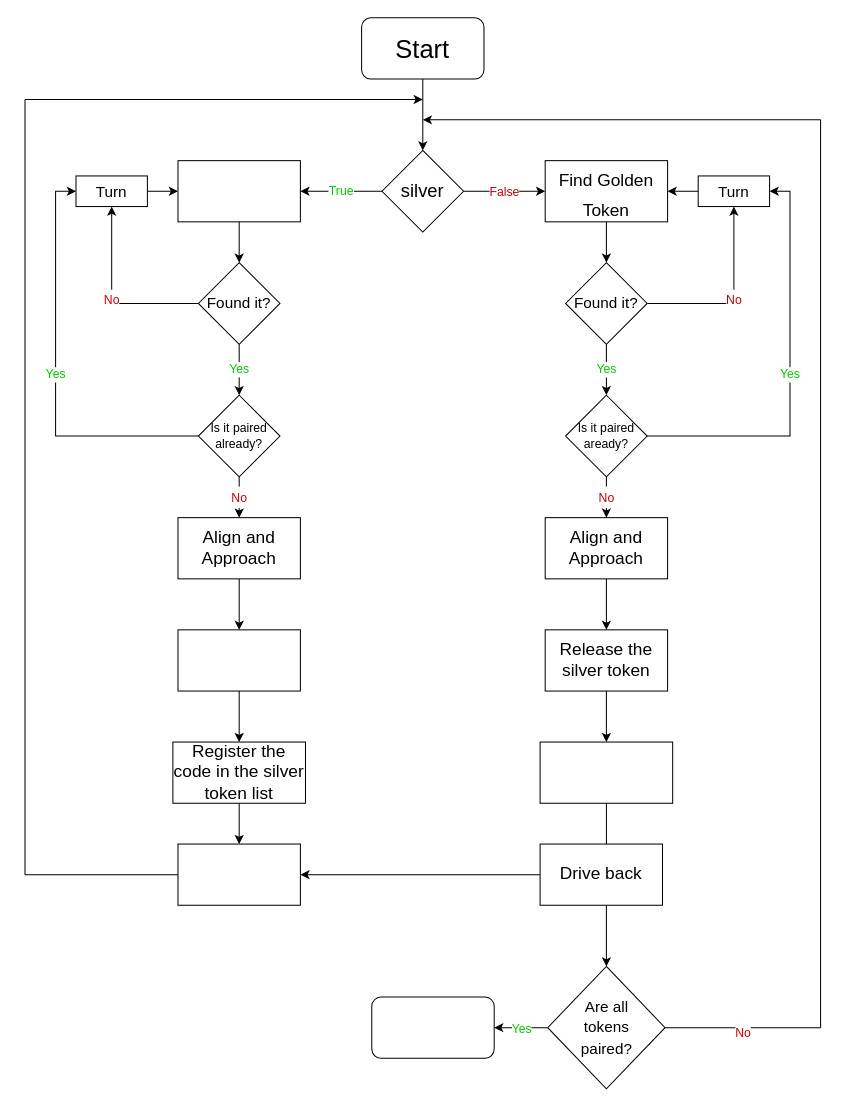
Image size: 847x1107. Some labels were removed from this diagram. Here are the shapes that lost their labels. From the top down, the centre of each, then its label:
At (x=238, y=191): "Find Silver Token".
At (x=238, y=660): "Grab the silver token".
At (x=606, y=772): "Register the code in the golden token list".
At (x=238, y=874): "silver = not silver".
At (x=432, y=1027): "End".
